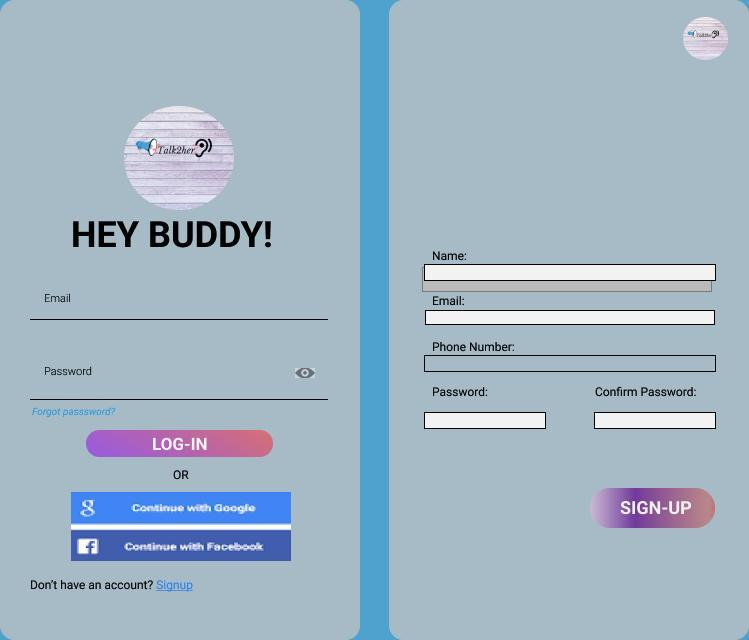button: (70, 492, 295, 527), (68, 530, 296, 563), (86, 428, 275, 458), (589, 489, 716, 528)
icon: (290, 364, 324, 385)
input: (424, 307, 719, 331), (422, 352, 718, 375), (423, 411, 550, 433), (590, 409, 719, 430)
label: (592, 380, 696, 405), (432, 338, 518, 354), (427, 385, 489, 405), (429, 248, 469, 264), (430, 296, 466, 306)
